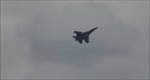maybay_muctieu: (72, 26, 98, 45)
